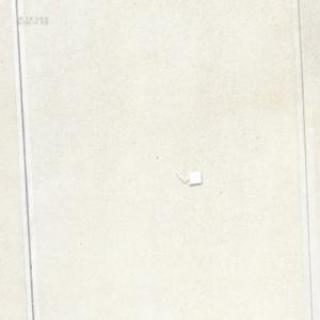LuggageTagtrack_idkeyframe: (174, 167, 201, 184)
